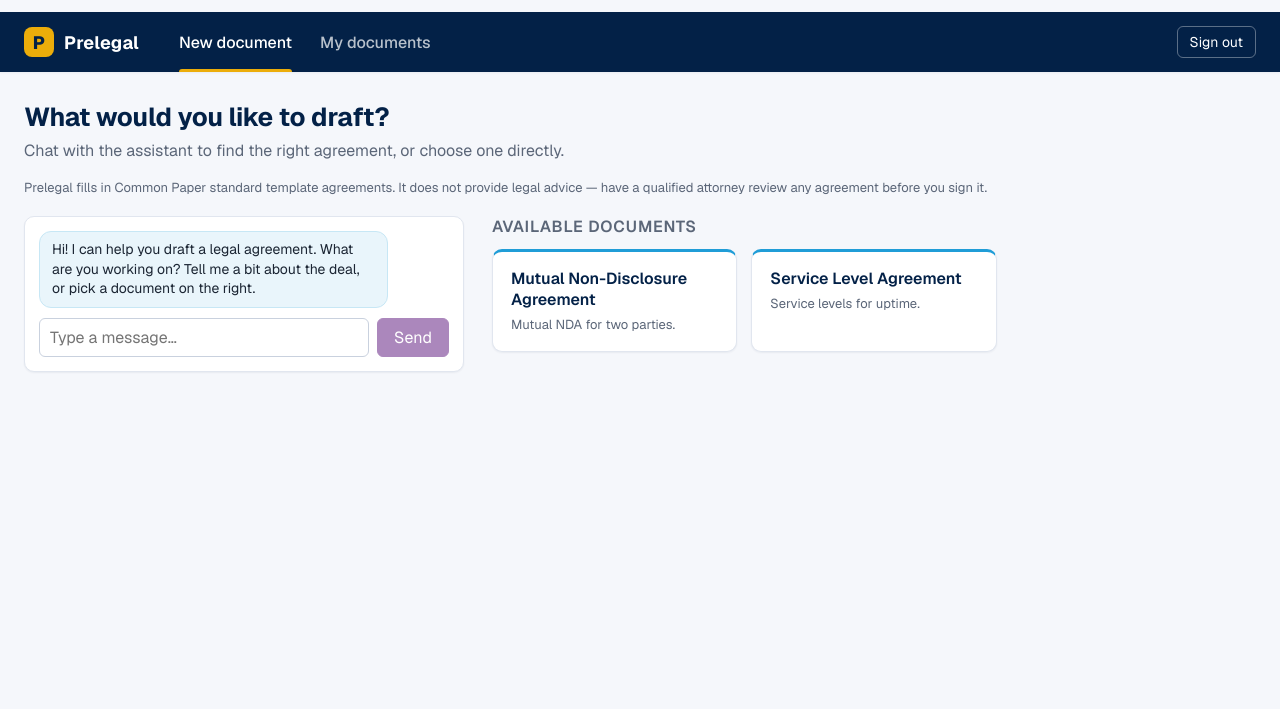
Test: Home: choosing a document › when the intake chat picks a document, opens it and carries the conversation over
This screenshot has width=1280, height=709.
In the field labelled "message": (204, 337) x1=39 y1=318 x2=369 y2=357, type "I need an SLA"
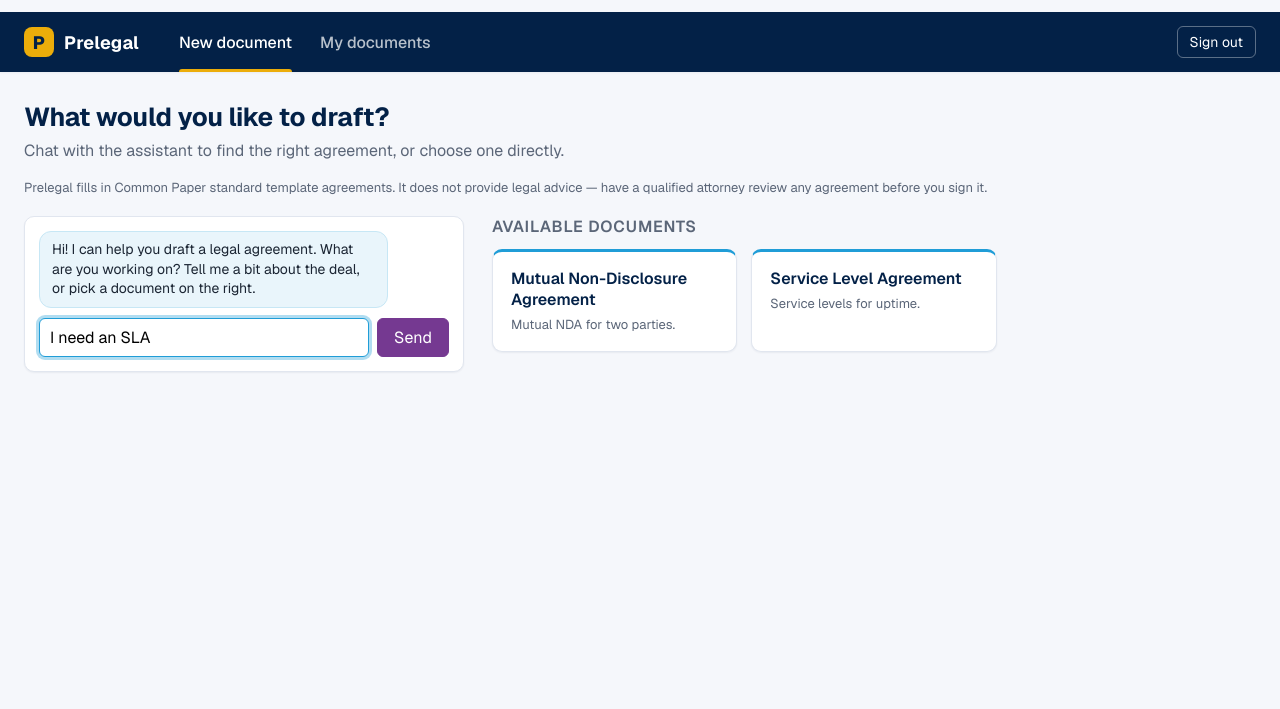
Click the button "Send": click(413, 337) x1=377 y1=318 x2=449 y2=357
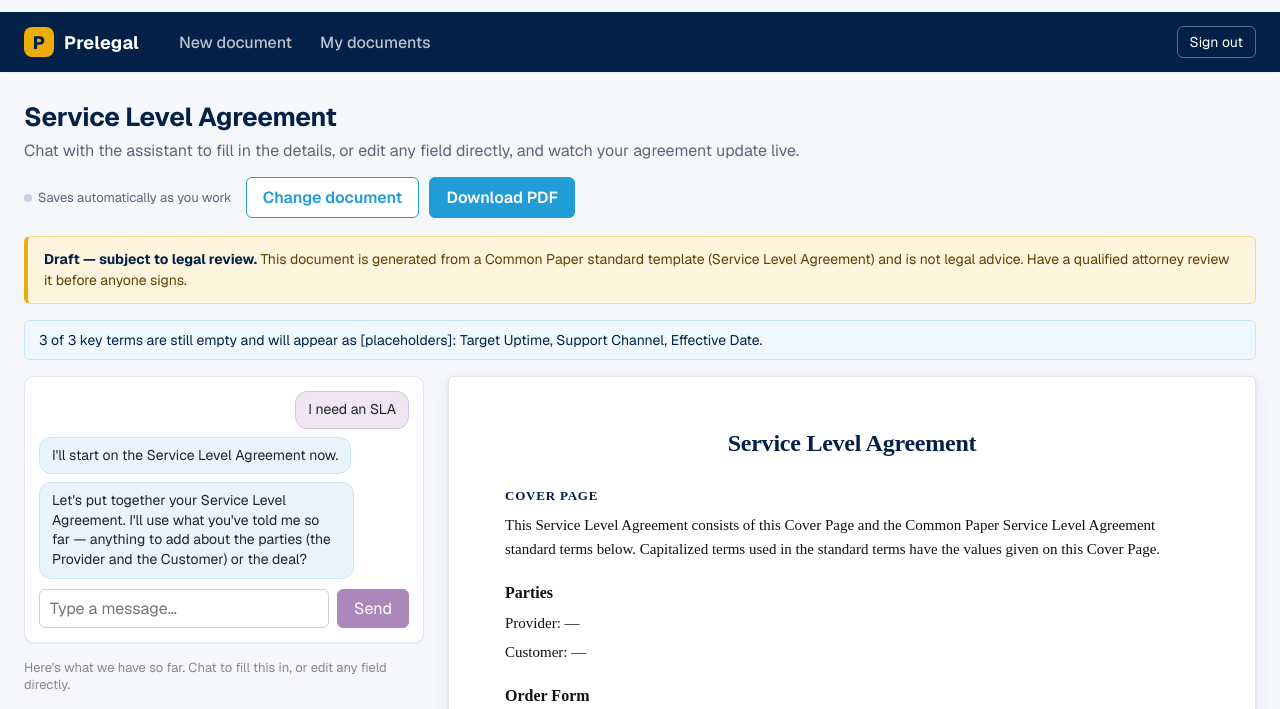
Expected: the 1st heading "Service Level Agreement" is shown, x1=24 y1=100 x2=336 y2=134
Expected: the list item "I need an SLA" is shown, x1=295 y1=391 x2=409 y2=429
Expected: the list item "I'll start on the Service Level Agreement now." is shown, x1=39 y1=437 x2=351 y2=474
